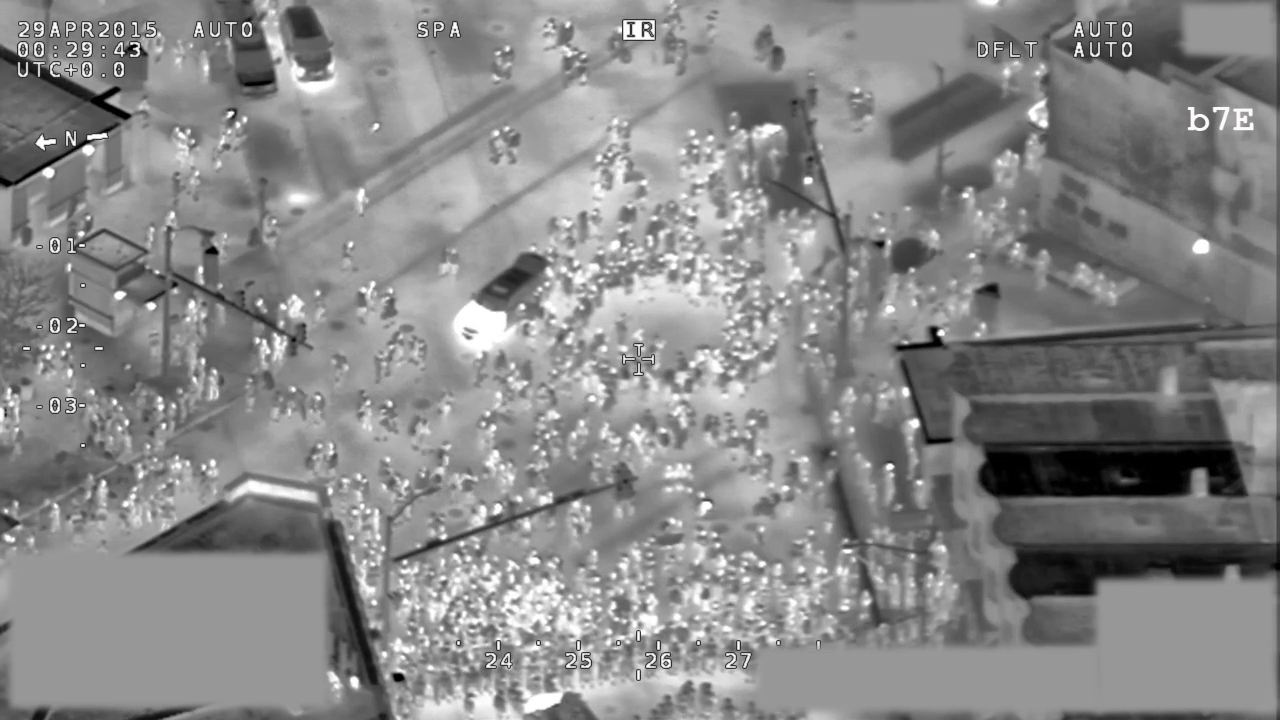vehicle: (445, 250, 562, 359), (220, 1, 281, 99), (274, 1, 341, 90)
